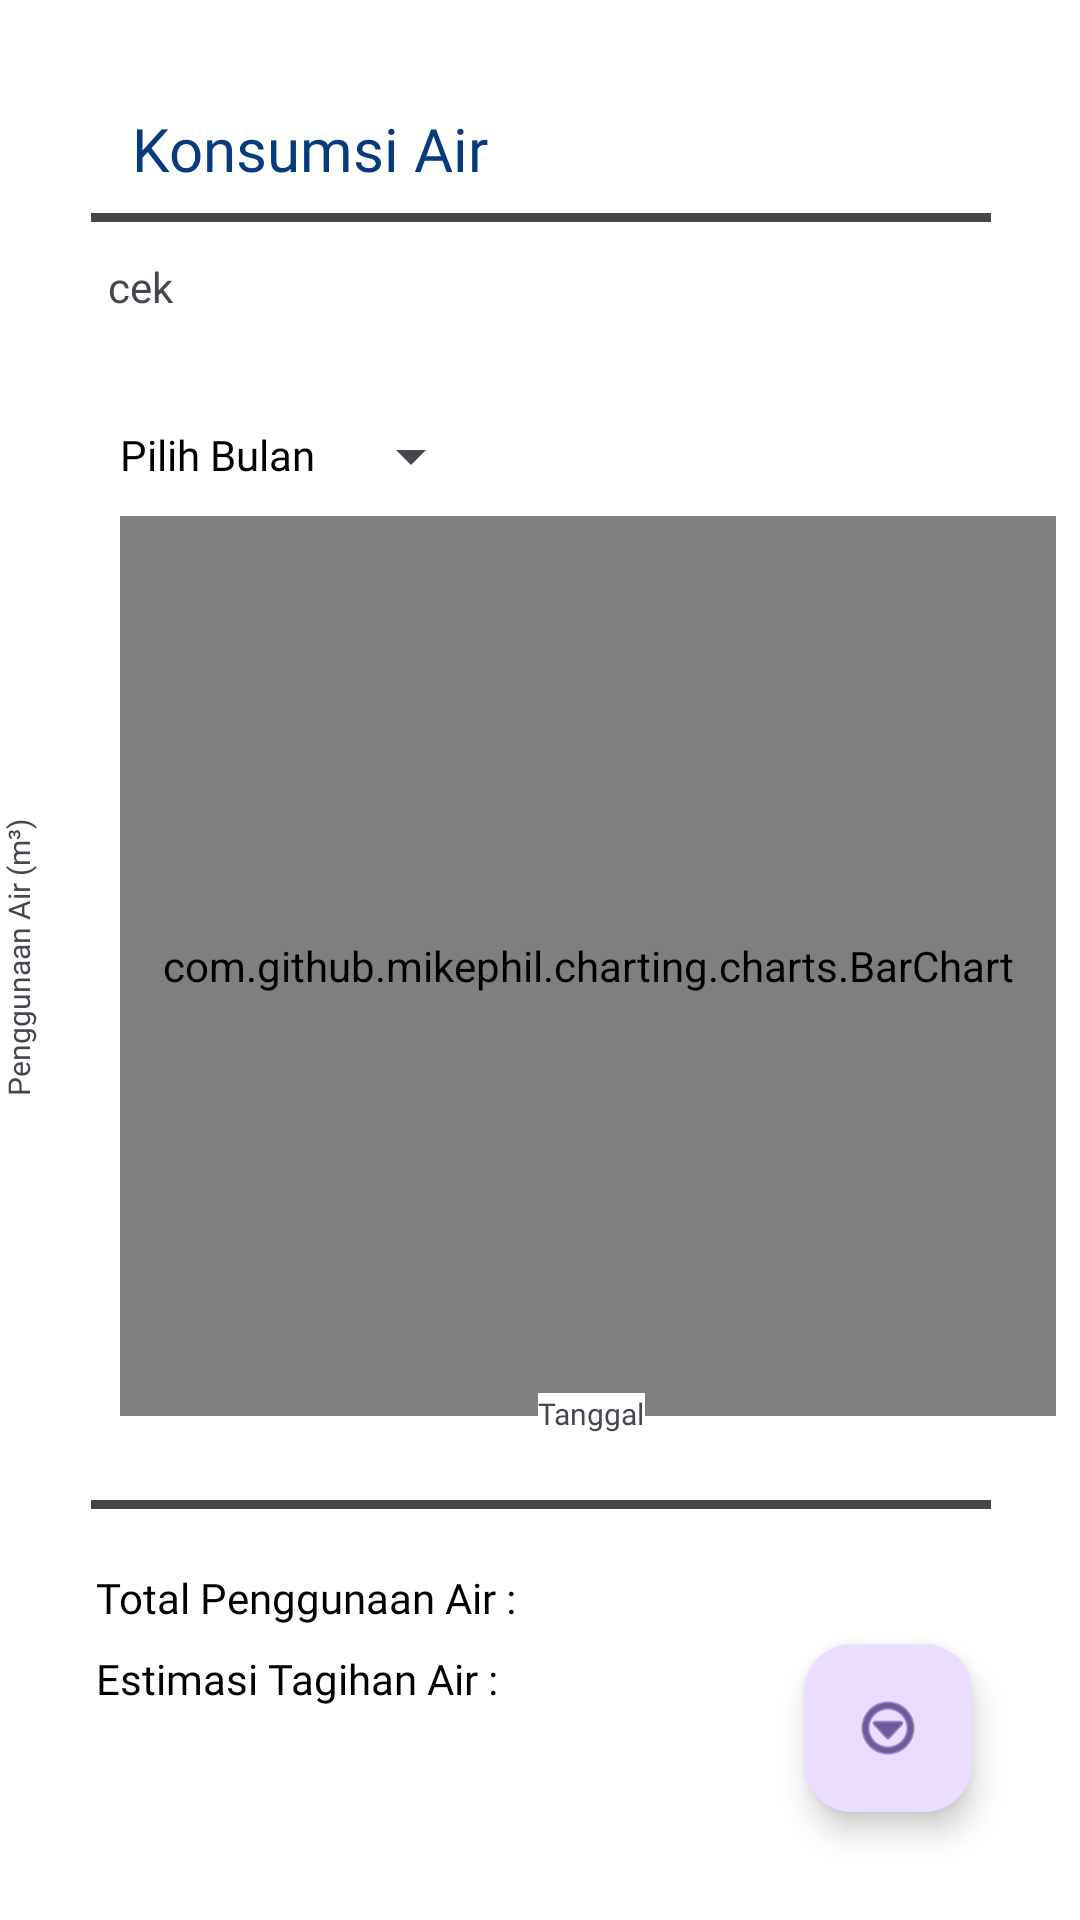

Icons on this 1080*1920 Android screen, each with its box as (x1, y1, x2, y2):
more: (804, 1644, 972, 1812)
